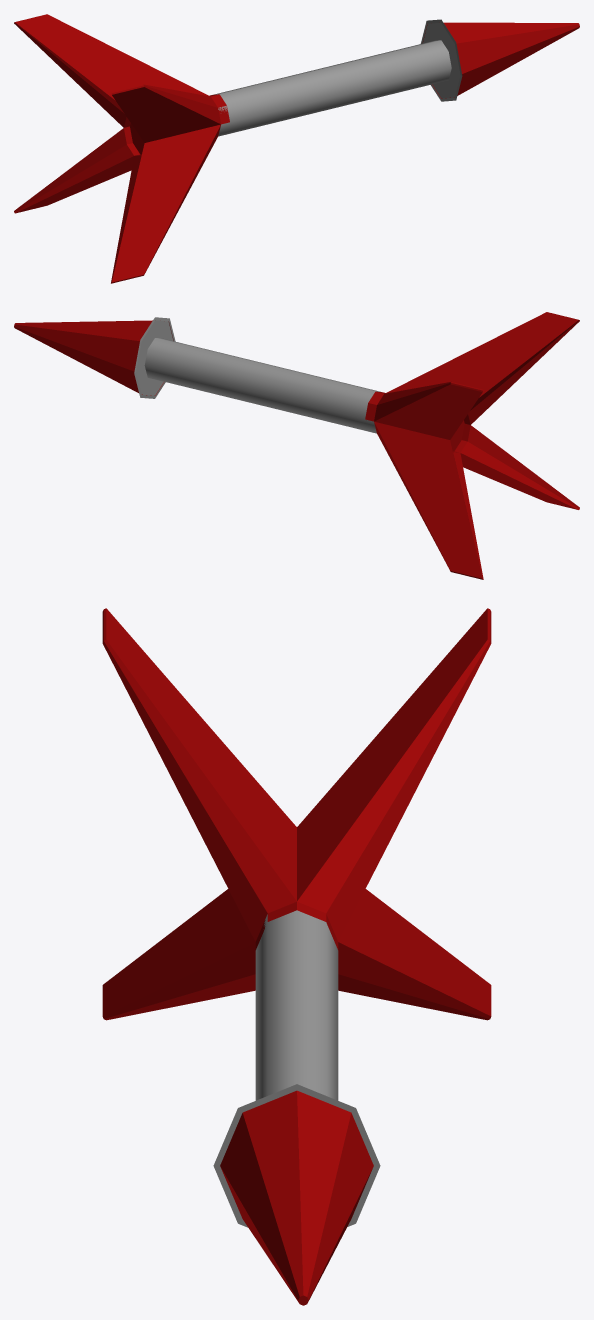
File: missile.fbx
3 renders of one model, top to bottom at view 1: azimuth 30°, elevation 25°; view 2: azimuth 150°, elevation 25°; view 3: azimuth 270°, elevation 25°, orthographic. The views are drawn at different scales.
Visible parts, largest first — view 1: Cylinder001, Object; view 2: Cylinder001, Object; view 3: Cylinder001, Object.
Part boxes in pixels (x1,y1,x2,y2): Cylinder001: (14, 14, 579, 283); Object: (213, 19, 462, 136); Cylinder001: (14, 312, 579, 579); Object: (134, 317, 380, 433); Cylinder001: (102, 608, 491, 1305); Object: (213, 910, 380, 1227).
Size of the model in its own units: 120 by 42.58 by 39.42.
